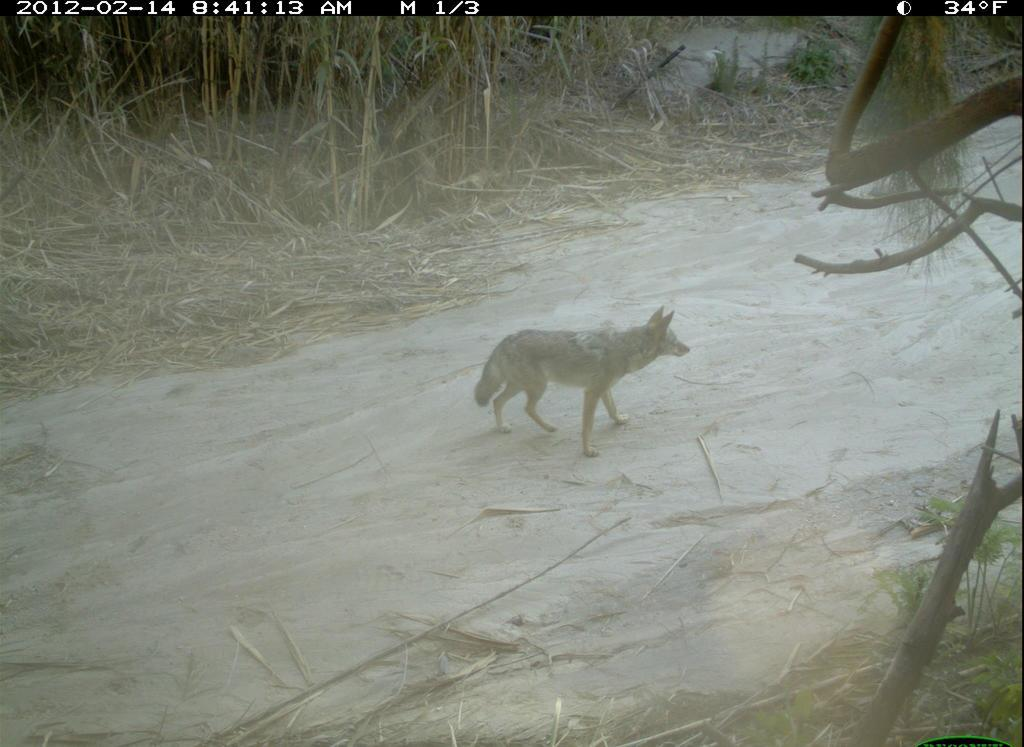coyote: (471, 297, 705, 463)
